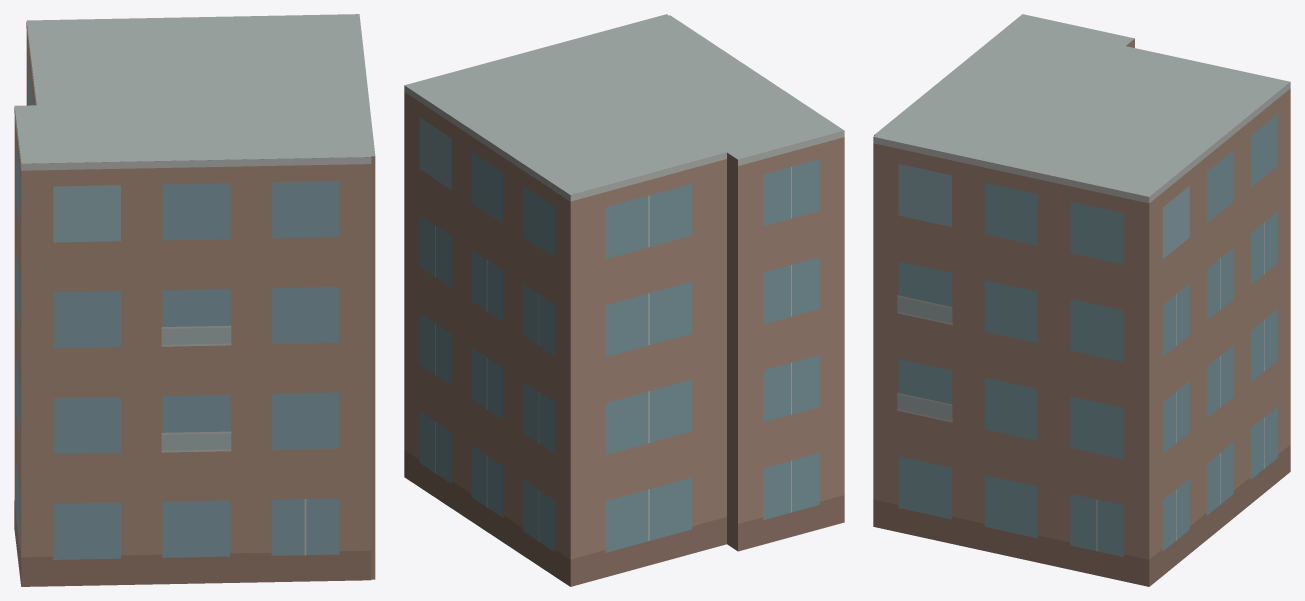
Rendered from survey-upis-32801767.glb.
3 views of the same model, side by side, from view 1: azimuth 30°, elevation 25°; view 2: azimuth 150°, elevation 25°; view 3: azimuth 270°, elevation 25° (orthographic). The views are drawn at different scales.
Visible parts, largest first — view 1: survey-upis-32801767.tmp; view 2: survey-upis-32801767.tmp; view 3: survey-upis-32801767.tmp.
Part boxes in pixels (bbox=[...]): survey-upis-32801767.tmp: bbox=[14, 14, 375, 586]; survey-upis-32801767.tmp: bbox=[404, 14, 844, 586]; survey-upis-32801767.tmp: bbox=[873, 14, 1290, 586].
Size of the model in its own units: 14.8 by 14.7 by 14.27.
